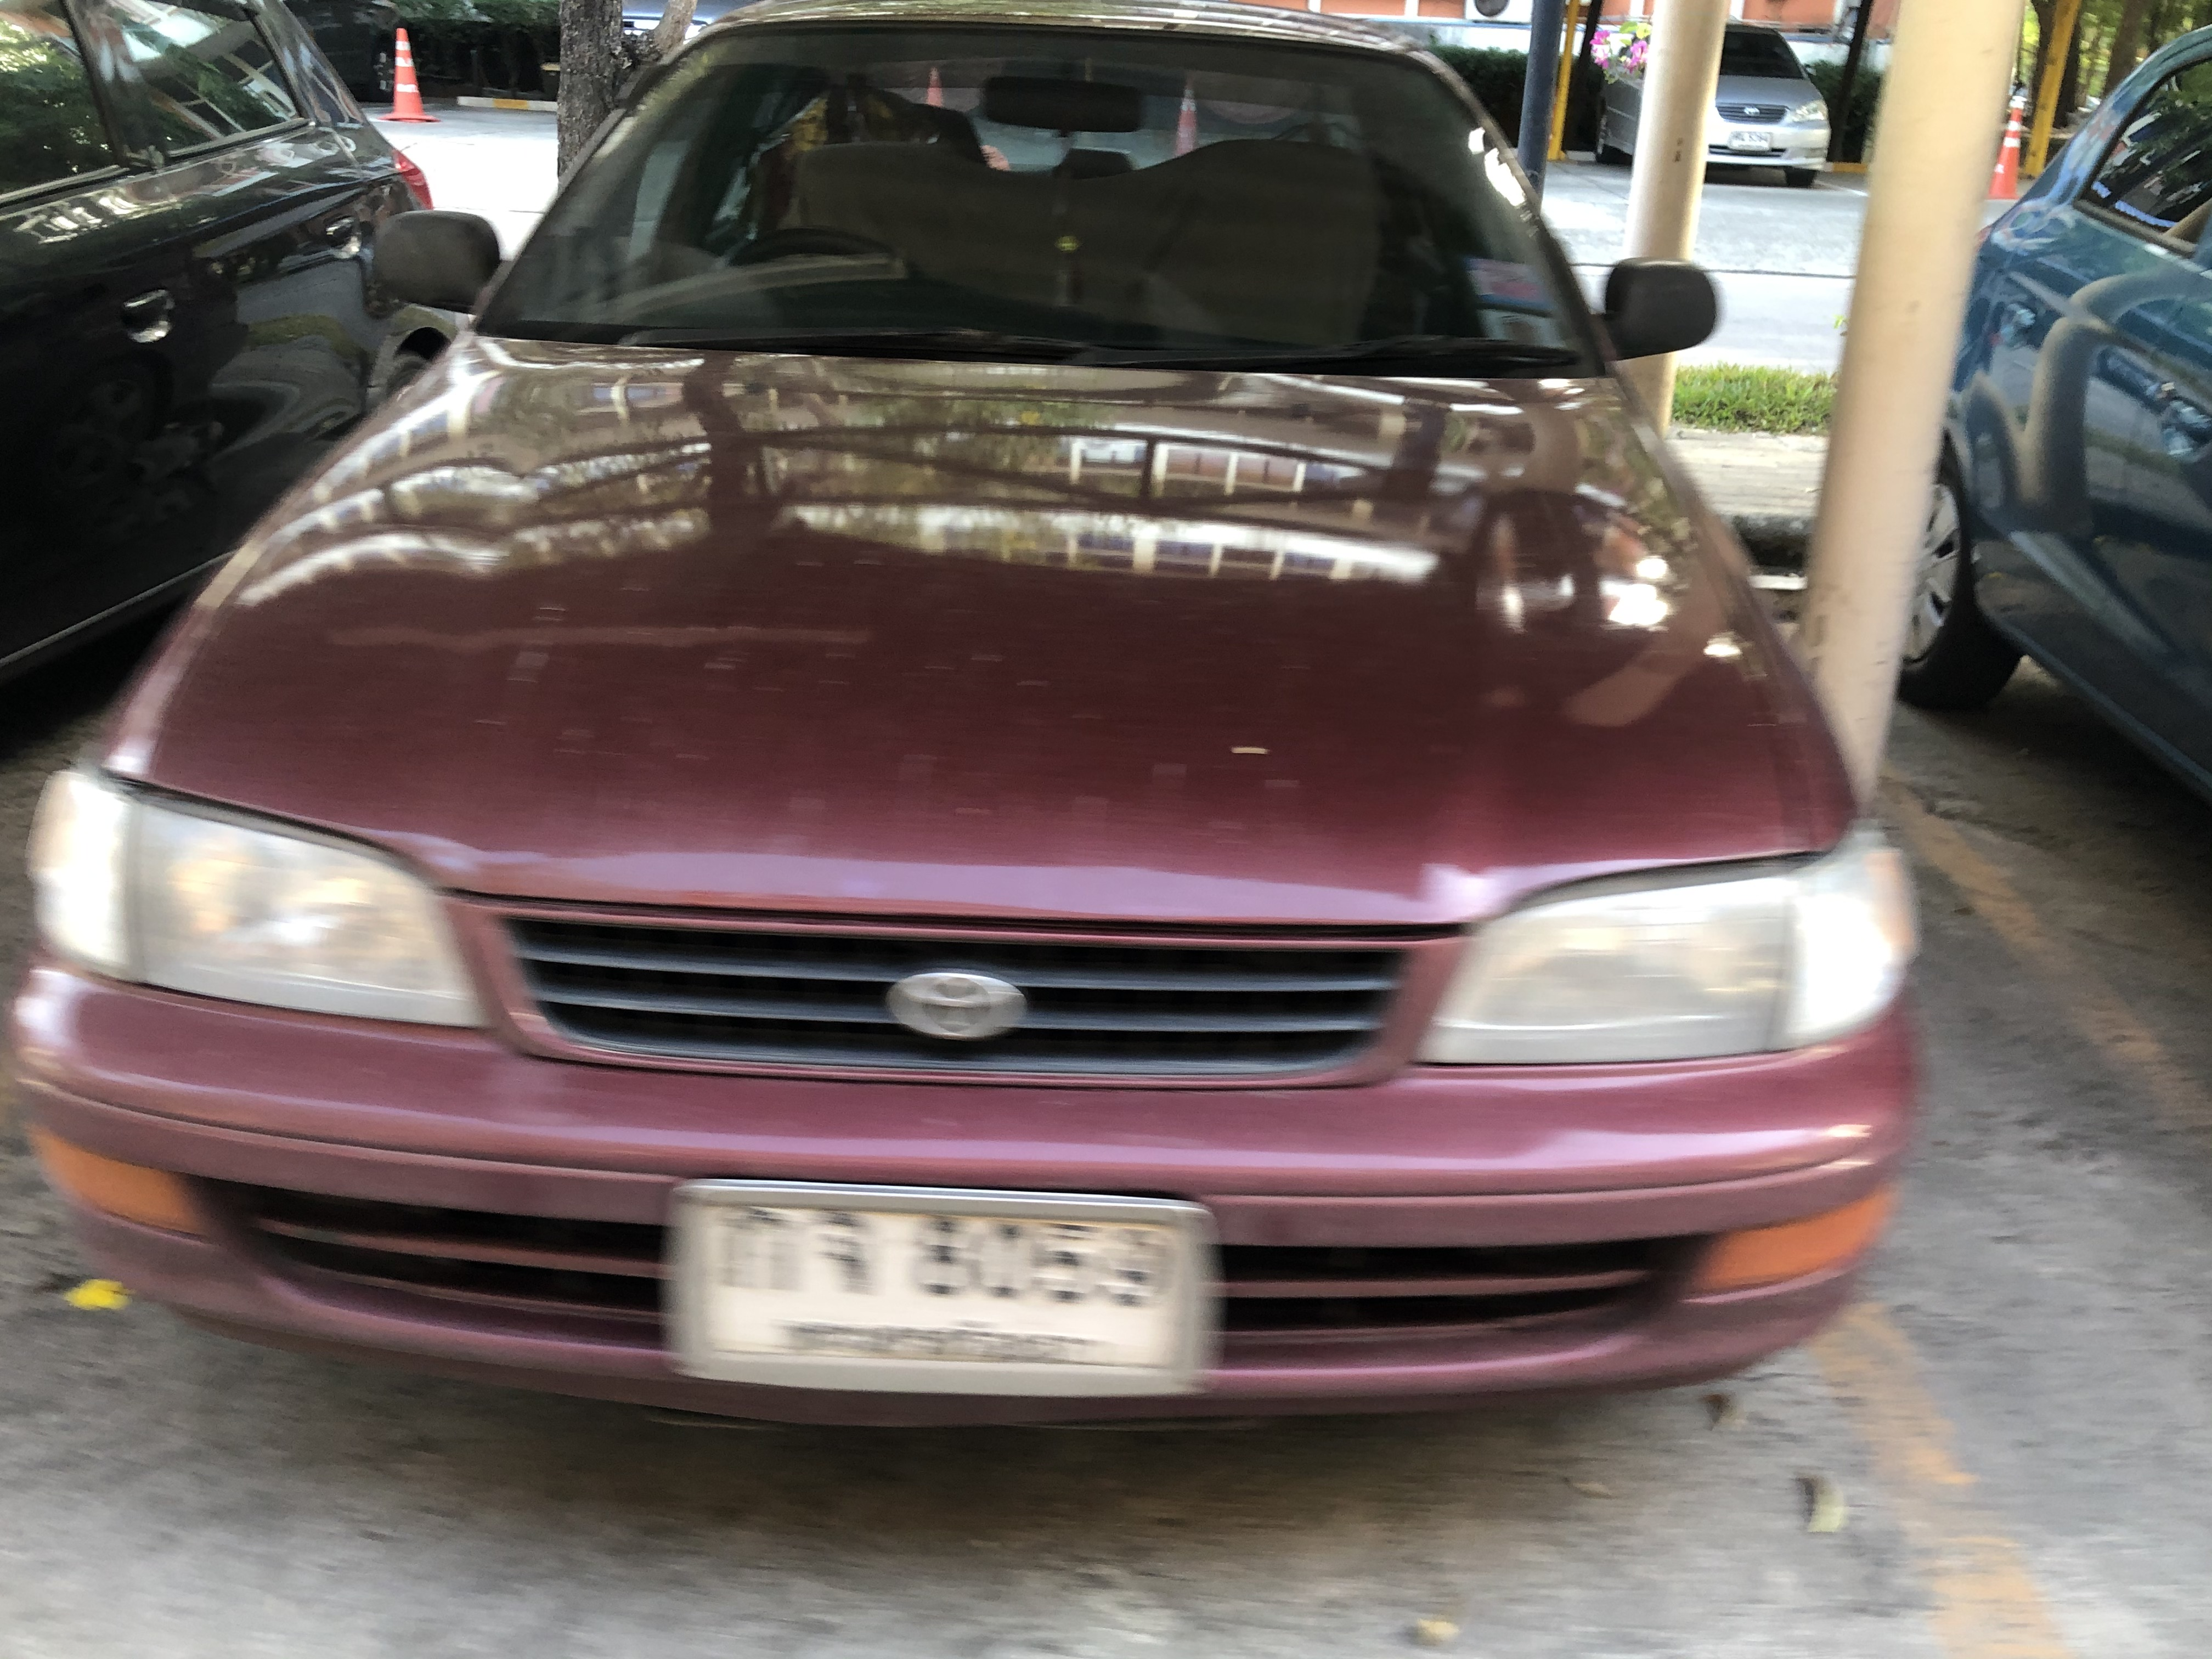in: (704, 1208, 1177, 1368)
out: (653, 1182, 1228, 1403)
